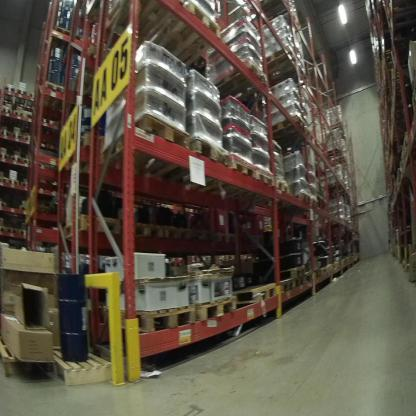pallet: (95, 116, 191, 184), (153, 132, 231, 198), (91, 300, 200, 347), (147, 7, 224, 67), (87, 2, 182, 43), (206, 63, 274, 109), (48, 347, 121, 388), (57, 205, 122, 246), (1, 334, 67, 373), (198, 154, 257, 197), (74, 44, 116, 103), (235, 274, 282, 318), (199, 292, 239, 334), (256, 175, 293, 215), (261, 44, 298, 84), (235, 167, 276, 201), (266, 115, 309, 144), (122, 222, 164, 246), (382, 62, 410, 97), (36, 80, 68, 110), (275, 273, 297, 303), (164, 222, 190, 247), (272, 259, 306, 278), (217, 224, 240, 252), (50, 21, 73, 48), (190, 224, 217, 246), (389, 2, 410, 30), (290, 191, 312, 207), (1, 83, 14, 106), (39, 114, 51, 135), (16, 88, 28, 108), (1, 103, 14, 120), (8, 175, 21, 192), (13, 105, 24, 125), (294, 274, 305, 293), (27, 91, 38, 109), (20, 176, 34, 190), (317, 265, 329, 281), (309, 197, 320, 214), (11, 151, 22, 167), (19, 202, 31, 216), (1, 125, 11, 141), (6, 225, 18, 238), (22, 152, 32, 167), (11, 130, 23, 141), (23, 130, 33, 143), (18, 228, 30, 238), (2, 151, 11, 164), (0, 174, 9, 186), (1, 197, 8, 209)
